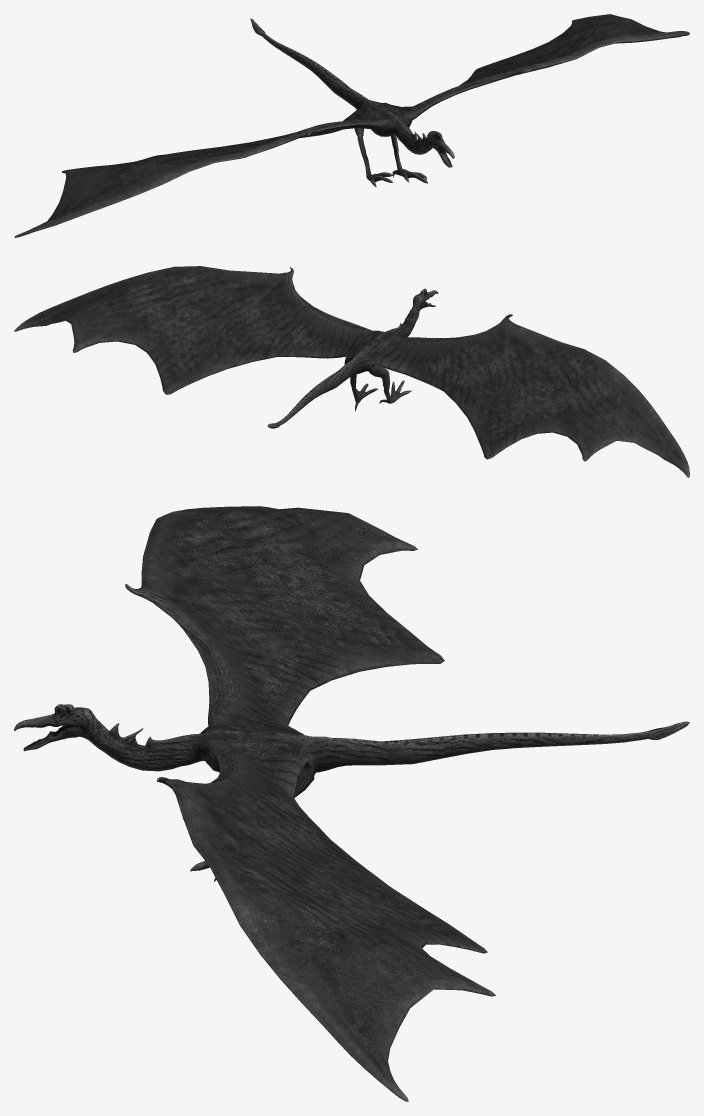
Rendered from Fellbeast_Animate_Grab_Glide_31.obj.
The picture shows the model from 3 angles, top to bottom: view 1: azimuth 30°, elevation 25°; view 2: azimuth 150°, elevation 25°; view 3: azimuth 270°, elevation 25°; orthographic projection. The views are drawn at different scales.
Visible parts, largest first — view 1: Fellbeast; view 2: Fellbeast; view 3: Fellbeast.
Boxes of the visible parts, bbox=[...] form: Fellbeast: bbox=[14, 14, 689, 237]; Fellbeast: bbox=[14, 266, 689, 477]; Fellbeast: bbox=[14, 506, 689, 1101].
Size of the model in its own units: 9.22 by 1.35 by 4.39.
